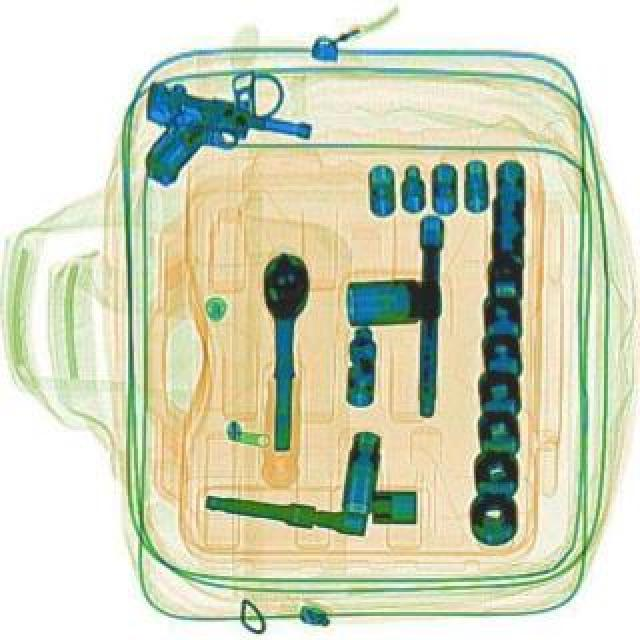gun: (124, 78, 314, 214)
